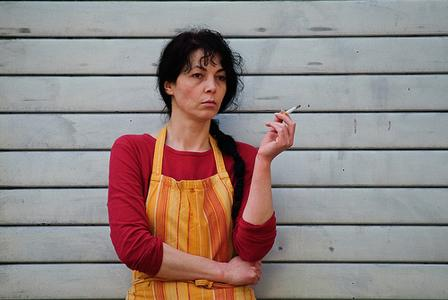person: (105, 28, 297, 300)
